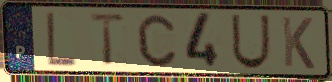4: (182, 10, 225, 73)
C: (135, 13, 178, 69)
K: (279, 14, 317, 71)
L: (44, 10, 79, 69)
T: (88, 11, 128, 68)
U: (229, 12, 272, 71)
